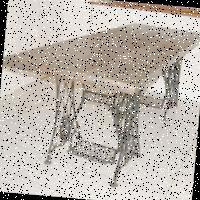Mesa: (0, 10, 199, 187)
